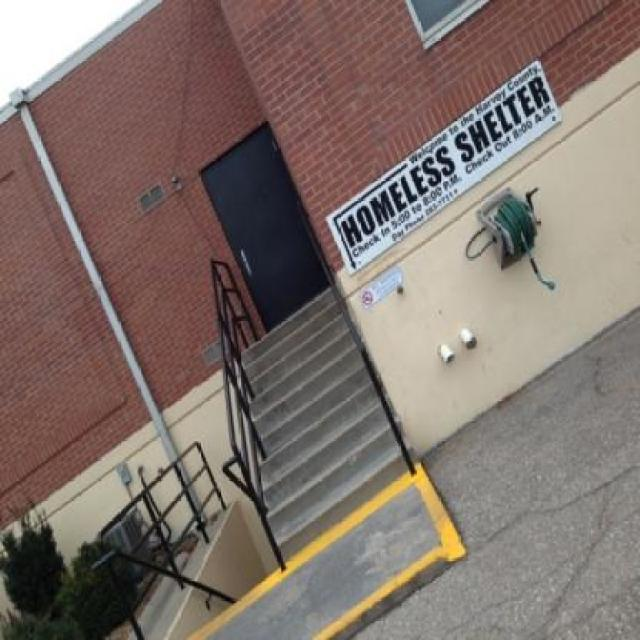stair: (235, 275, 420, 568)
